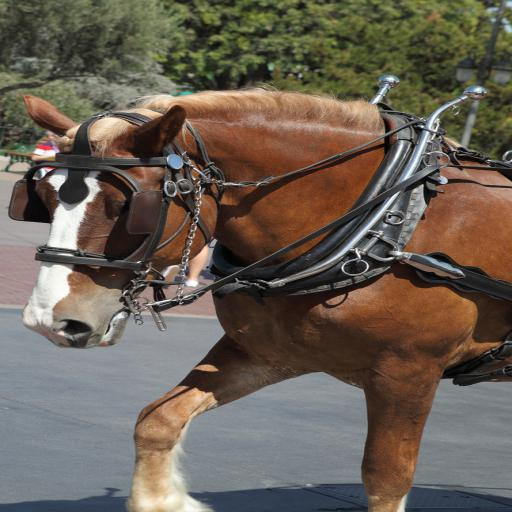horse: (22, 80, 512, 510)
